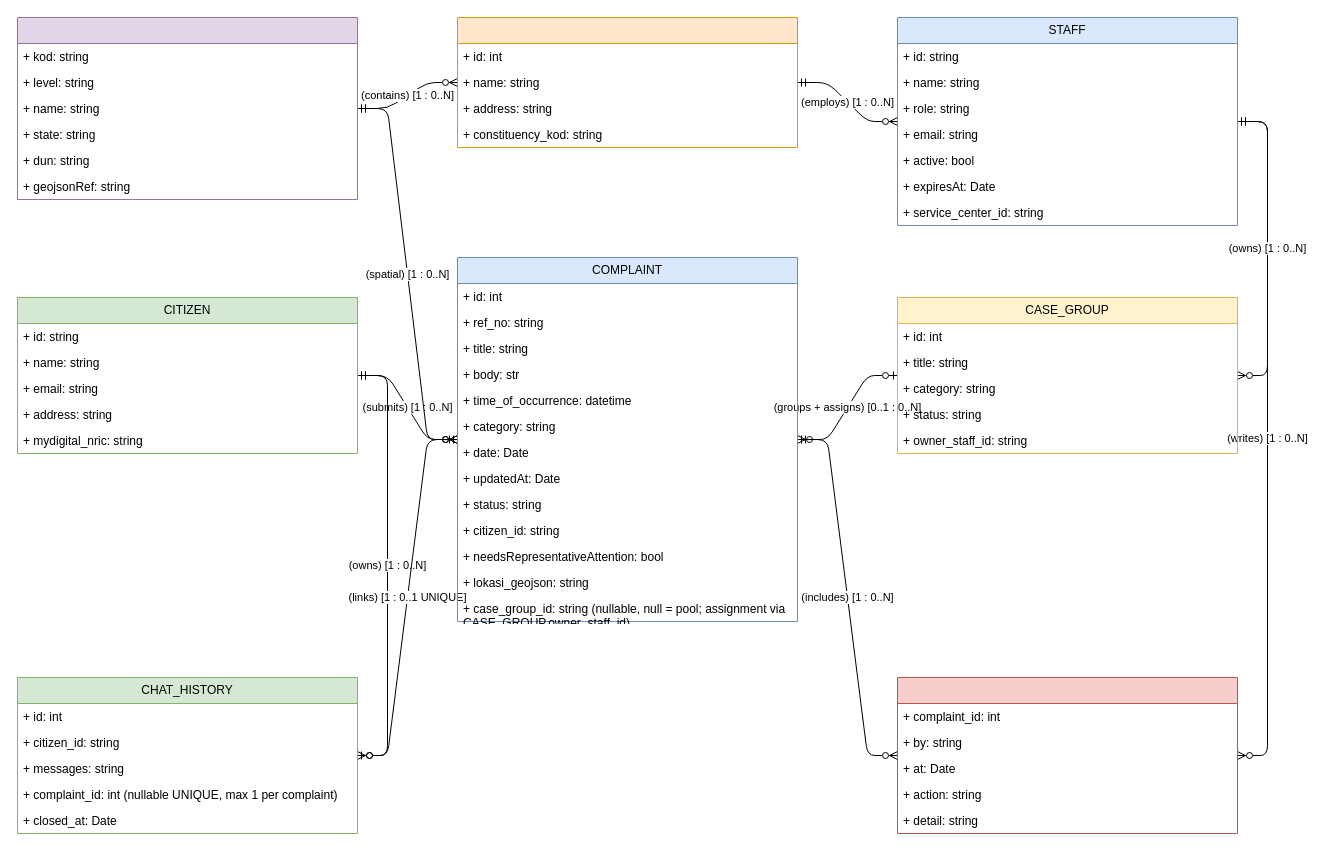
The diagram is 1325 pixels wide and 854 high, and some of its shapes have lost their labels. Here are the shapes that lost their labels. From the top down, the box of each, then its label:
(456, 16, 798, 148): SERVICE_CENTER
(16, 16, 358, 200): CONSTITUENCY
(896, 676, 1238, 834): COMPLAINT_UPDATE
